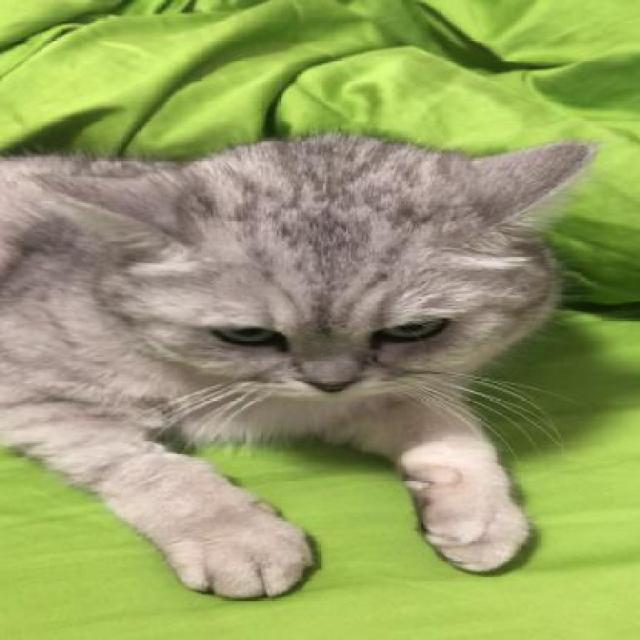cat-face: (42, 142, 595, 408)
